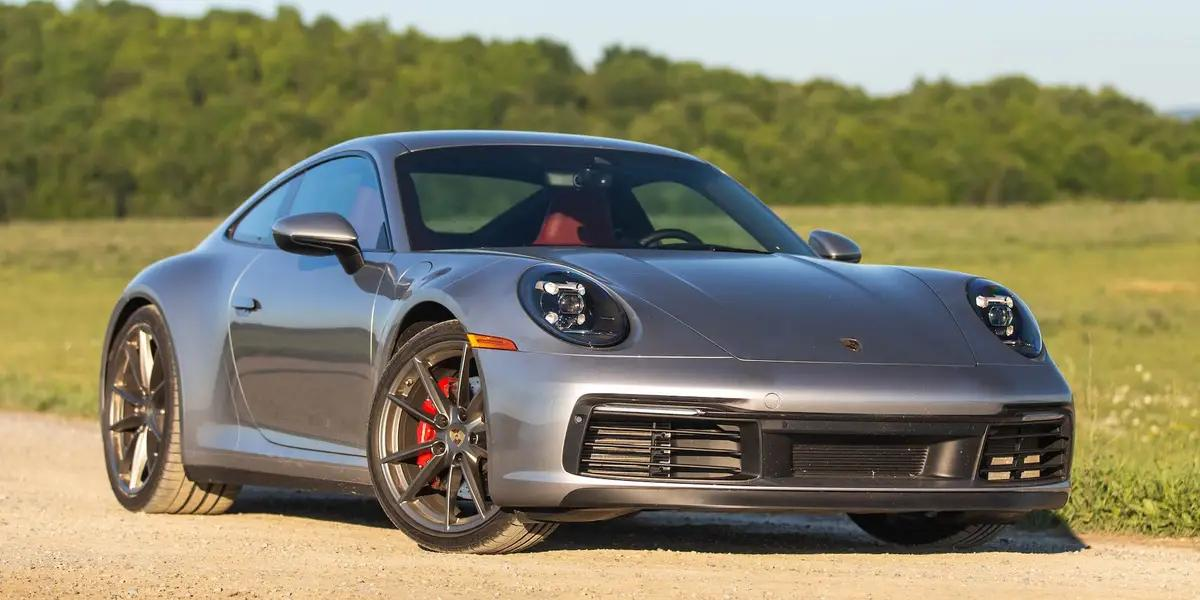porsche: (835, 332, 870, 358)
